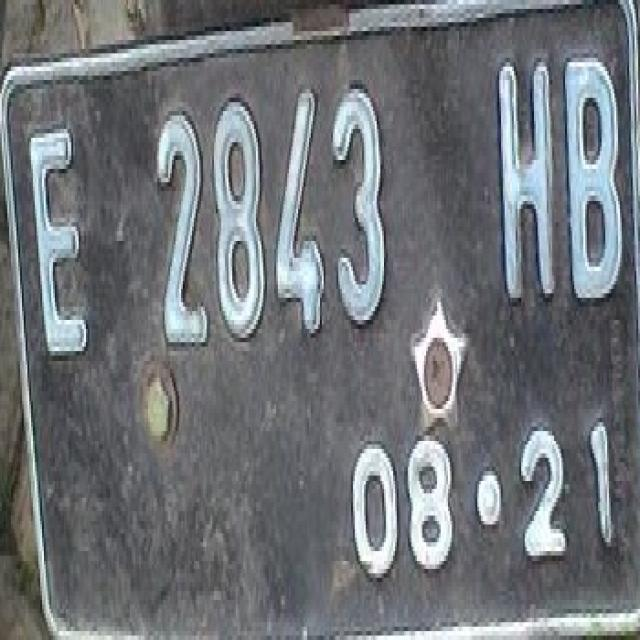plate: (0, 17, 636, 626)
